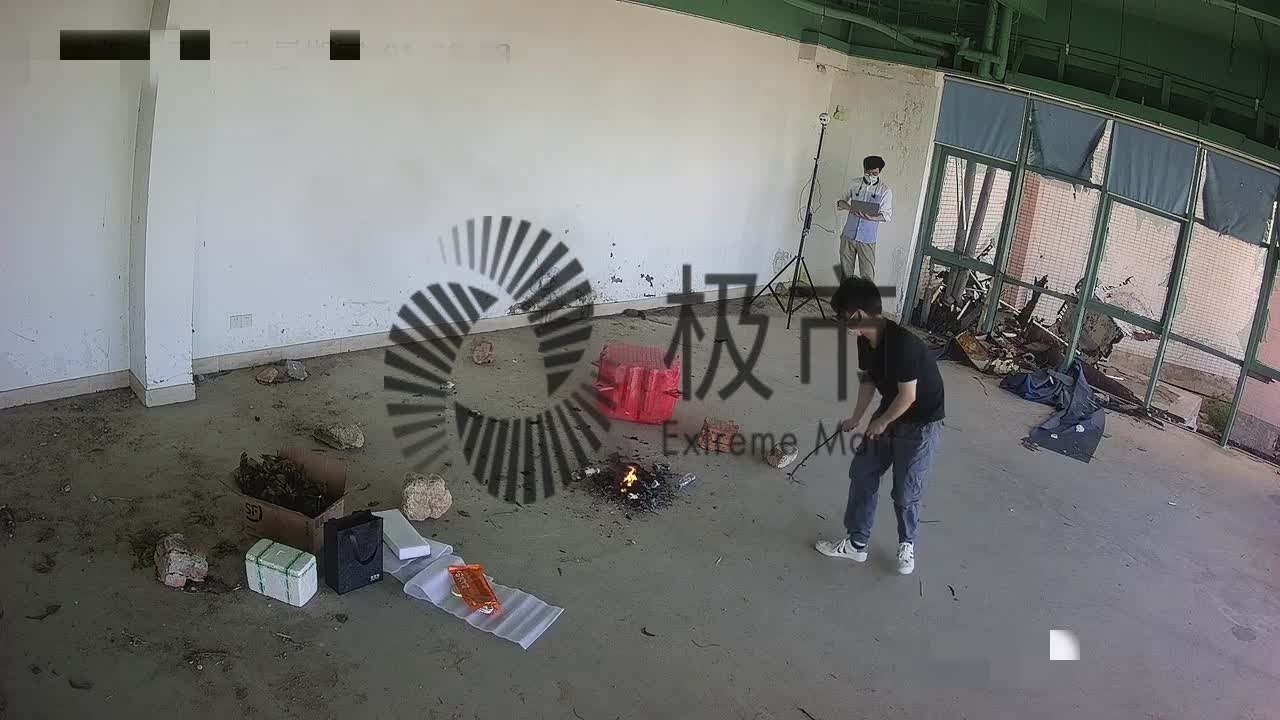fire: (606, 456, 647, 504)
